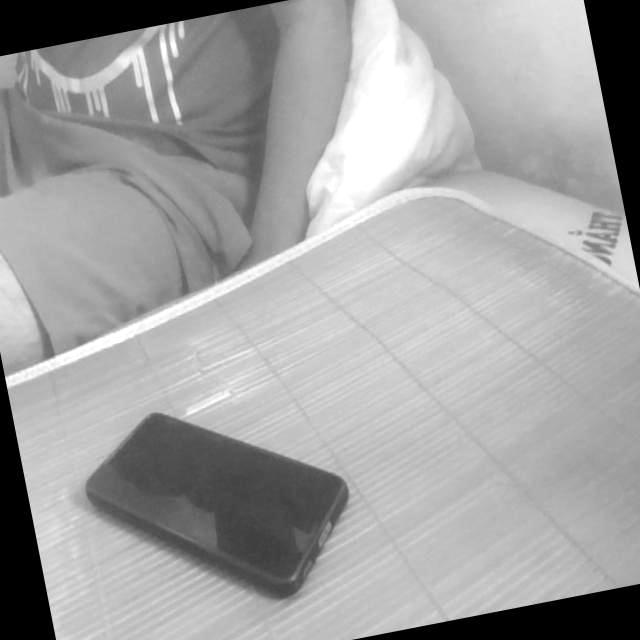phone: (60, 339, 386, 640)
